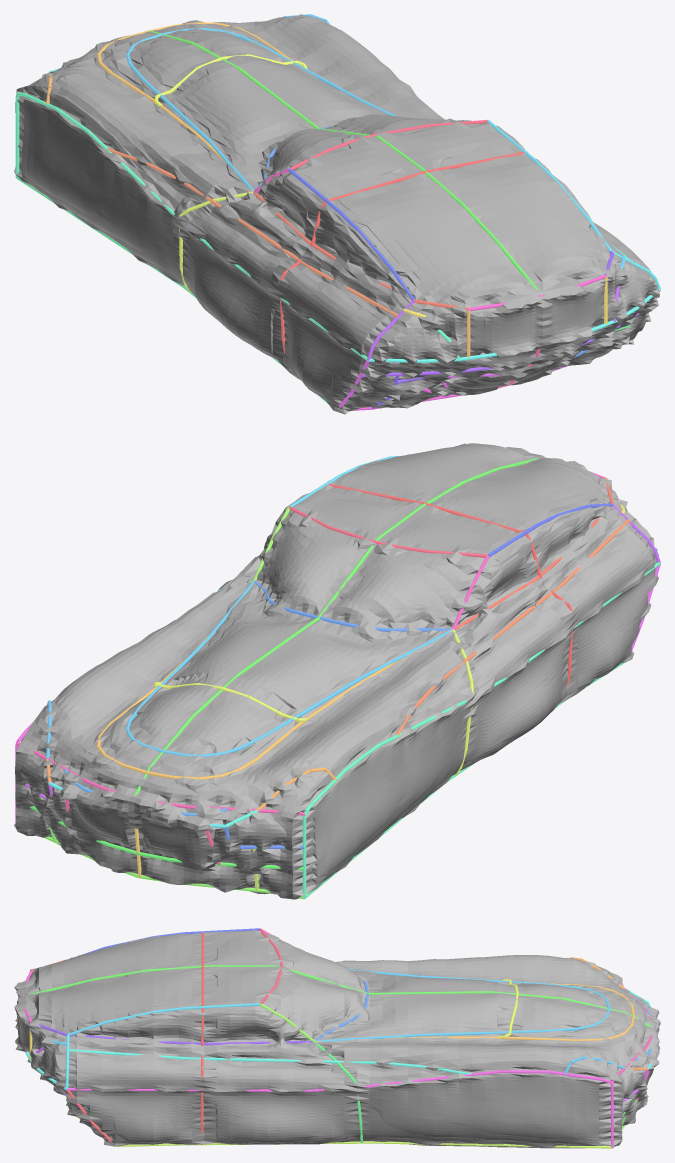
The model's file is t2f_car_93.gltf.
The picture shows the model from 3 angles, top to bottom: view 1: azimuth 30°, elevation 25°; view 2: azimuth 150°, elevation 25°; view 3: azimuth 270°, elevation 25°; orthographic projection. The views are drawn at different scales.
Bounding box in the file's own units: 0.4003 × 0.2256 × 0.9259.
